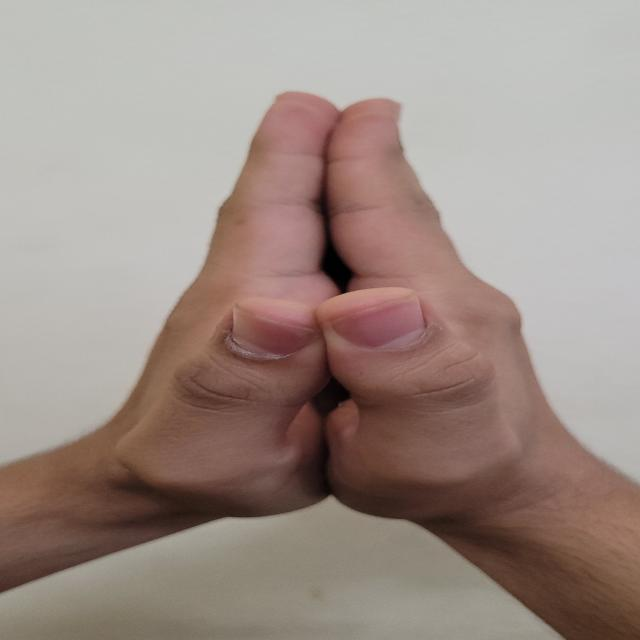Thank You: (5, 53, 561, 595)
